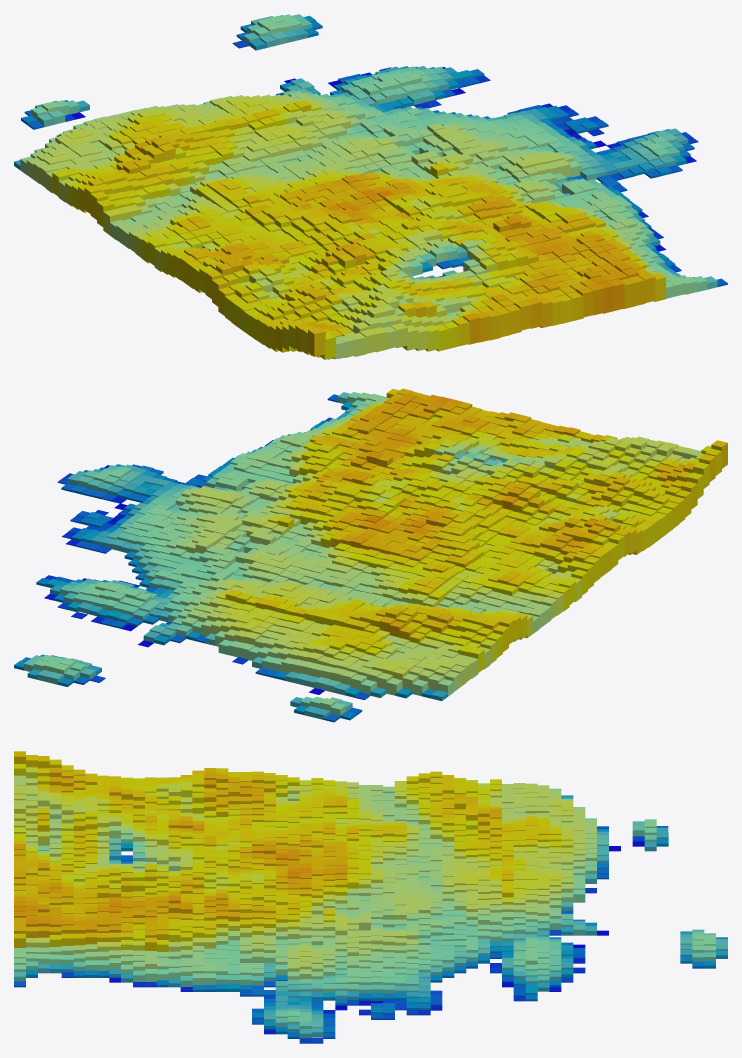
The model's file is population.glb.
3 views of the same model, one above another, from view 1: azimuth 30°, elevation 25°; view 2: azimuth 150°, elevation 25°; view 3: azimuth 270°, elevation 25° (orthographic). The views are drawn at different scales.
Visible parts, largest first — view 1: population; view 2: population; view 3: population.
Boxes of the visible parts, x1,y1,x2,y2 form: population: (14, 14, 727, 359); population: (14, 388, 727, 722); population: (14, 751, 727, 1043).
Bounding box in the file's own units: 4833 × 442 × 5970.
